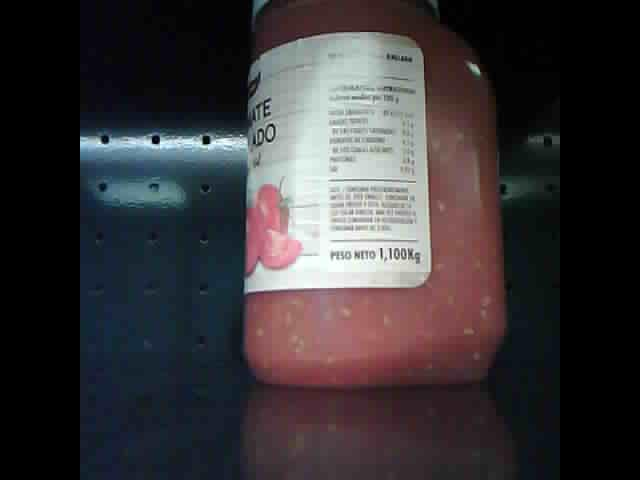tomate: (243, 4, 506, 389)
